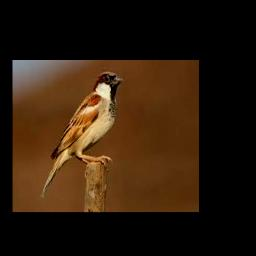Sparrow: (40, 72, 123, 199)
